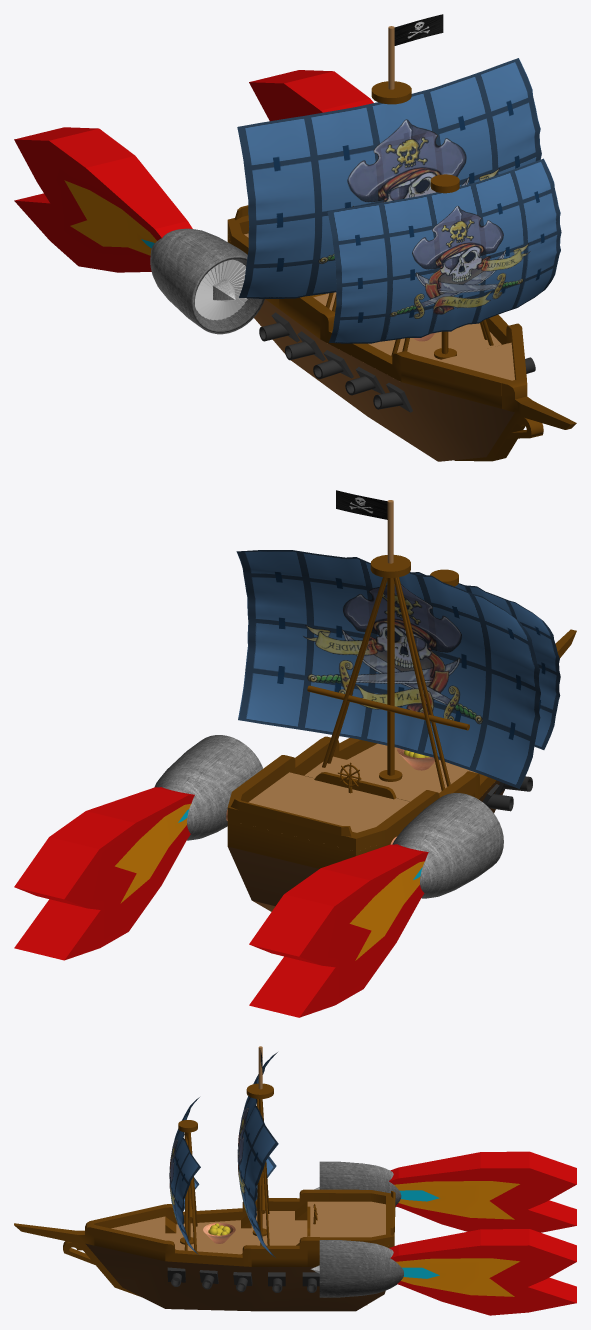
The model's file is ship2fbx.fbx.
3 views of the same model, one above another, from view 1: azimuth 30°, elevation 25°; view 2: azimuth 150°, elevation 25°; view 3: azimuth 270°, elevation 25° (orthographic). The views are drawn at different scales.
Parts seen in each view (by area): view 1: Sails, NewBoatBase, Flames, Engines, Cannon, NewBoatBaseDetails, Blades, Flags; view 2: Sails, Flames, NewBoatBase, Engines, NewBoatBaseDetails, Flags, Cannon; view 3: NewBoatBase, Flames, Engines, Sails, NewBoatBaseDetails, Cannon.
Part boxes in pixels (x1,y1,x2,y2): Sails: [237, 58, 561, 343]; NewBoatBase: [227, 215, 576, 461]; Flames: [14, 70, 373, 272]; Engines: [150, 228, 264, 334]; Cannon: [259, 312, 535, 412]; NewBoatBaseDetails: [234, 81, 493, 359]; Blades: [195, 259, 247, 320]; Flags: [394, 14, 443, 45]; Sails: [236, 550, 560, 788]; Flames: [14, 787, 428, 1017]; NewBoatBase: [227, 629, 576, 911]; Engines: [154, 735, 503, 898]; NewBoatBaseDetails: [230, 555, 469, 836]; Flags: [336, 490, 387, 519]; Cannon: [482, 776, 532, 811]; NewBoatBase: [14, 1189, 394, 1311]; Flames: [389, 1151, 576, 1315]; Engines: [311, 1161, 403, 1297]; Sails: [169, 1052, 278, 1257]; NewBoatBaseDetails: [165, 1083, 395, 1254]; Cannon: [167, 1267, 319, 1292].
Bounding box in the file's own units: 17.61 × 20.34 × 40.5.
15 materials, 4 textured.
